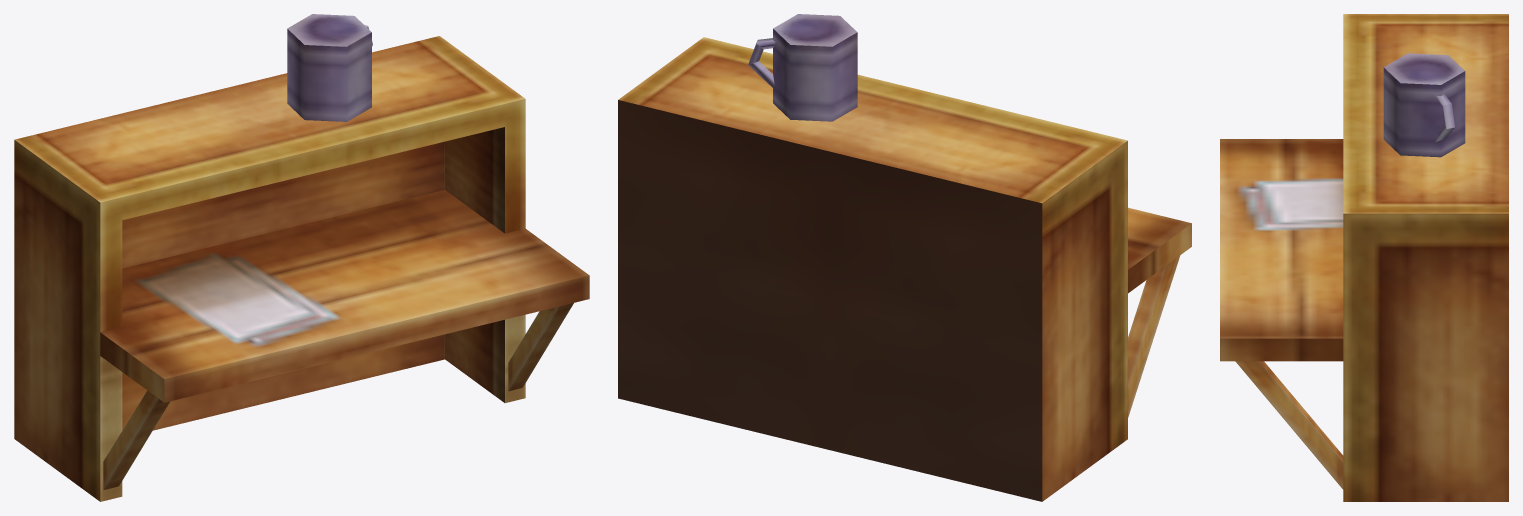
Rendered from a_SWGushelf01.glb.
The picture shows the model from 3 angles, left to right: view 1: azimuth 30°, elevation 25°; view 2: azimuth 150°, elevation 25°; view 3: azimuth 270°, elevation 25°; orthographic projection. The views are drawn at different scales.
Parts seen in each view (by area): view 1: a_SWGushelf01; view 2: a_SWGushelf01; view 3: a_SWGushelf01.
Boxes of the visible parts, x1=… form: a_SWGushelf01: x1=14, y1=14, x2=589, y2=501; a_SWGushelf01: x1=618, y1=14, x2=1191, y2=501; a_SWGushelf01: x1=1220, y1=14, x2=1508, y2=501.
Bounding box in the file's own units: 1.24 × 1.05 × 0.76.
2 materials, 2 textured.
